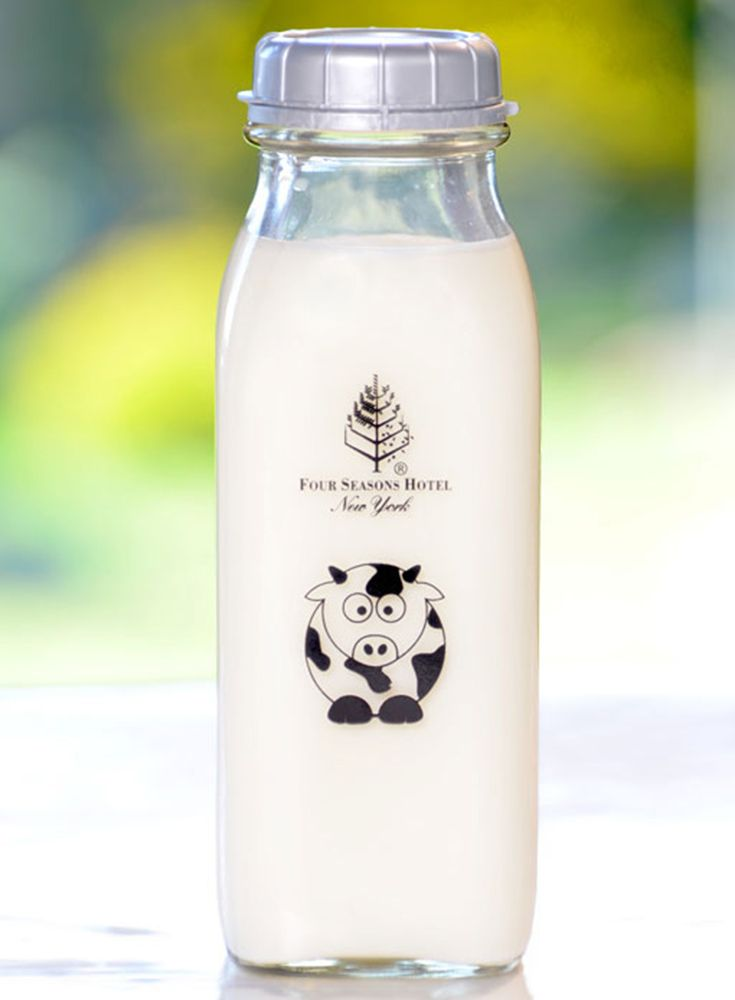glass of milk: (258, 227, 497, 981)
